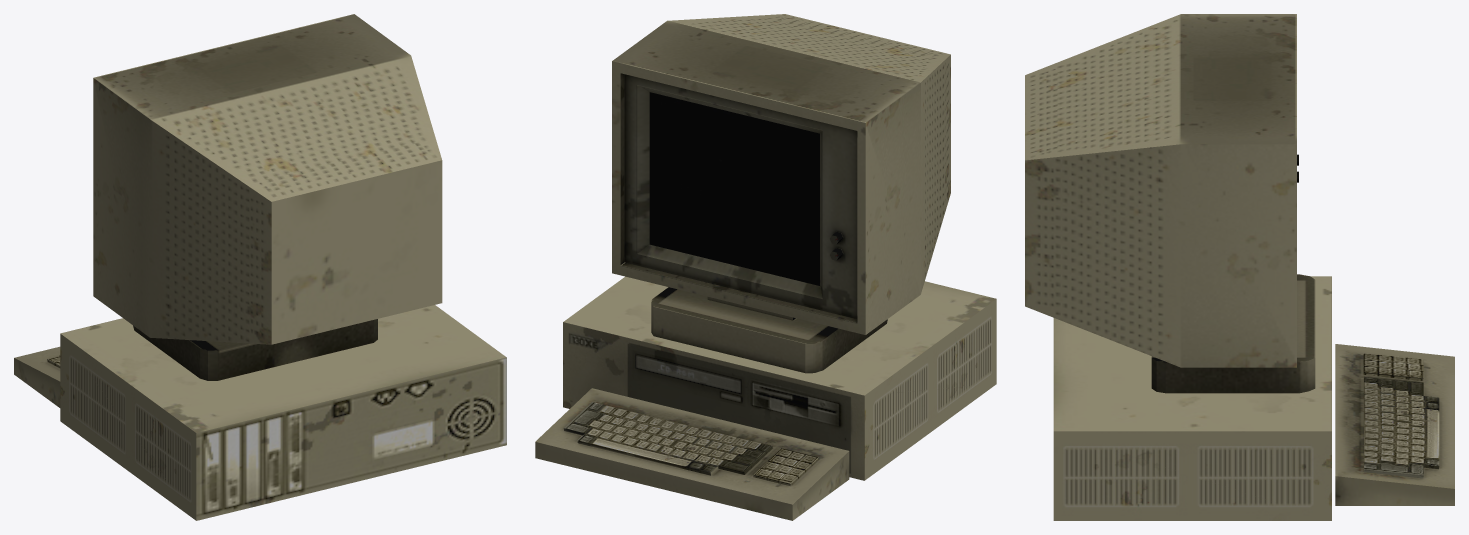
The model's file is tech_computer_terminal.dae.
3 views of the same model, side by side, from view 1: azimuth 30°, elevation 25°; view 2: azimuth 150°, elevation 25°; view 3: azimuth 270°, elevation 25° (orthographic). The views are drawn at different scales.
Parts seen in each view (by area): view 1: polySurface2; view 2: polySurface2; view 3: polySurface2.
Boxes of the visible parts, bbox=[...] form: polySurface2: bbox=[14, 14, 506, 520]; polySurface2: bbox=[535, 14, 996, 520]; polySurface2: bbox=[1025, 14, 1454, 520].
Size of what is drawn, in the model's own units: 0.5526 by 0.6004 by 0.6481.
